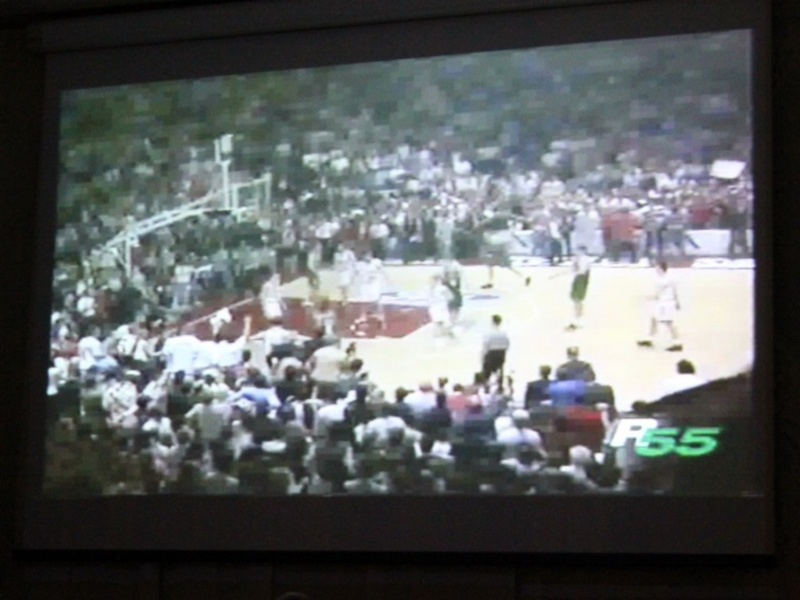tv: (27, 55, 786, 577)
